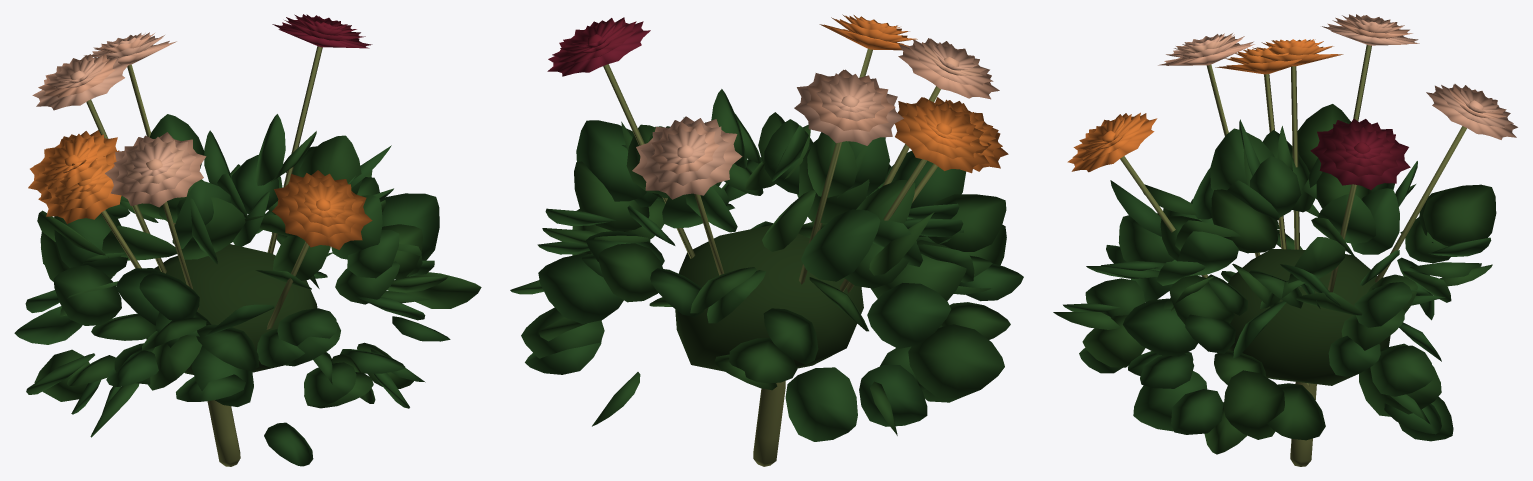
Rendered from potfill_dahlia.glb.
3 views of the same model, side by side, from view 1: azimuth 30°, elevation 25°; view 2: azimuth 150°, elevation 25°; view 3: azimuth 270°, elevation 25° (orthographic). The views are drawn at different scales.
Visible parts, largest first — view 1: Sammel Pflanze, Sammel Blatt, Sammel Putz; view 2: Sammel Pflanze, Sammel Blatt, Sammel Putz; view 3: Sammel Pflanze, Sammel Blatt, Sammel Putz.
Part boxes in pixels (x1,y1,x2,y2): Sammel Pflanze: (14, 14, 481, 466); Sammel Blatt: (146, 244, 317, 374); Sammel Putz: (86, 46, 322, 466); Sammel Pflanze: (510, 14, 1023, 441); Sammel Blatt: (675, 225, 863, 371); Sammel Putz: (603, 48, 940, 466); Sammel Pflanze: (1053, 14, 1517, 454); Sammel Blatt: (1228, 249, 1390, 385); Sammel Putz: (1120, 45, 1466, 466).
Bounding box in the file's own units: 0.4504 × 0.4098 × 0.434.
